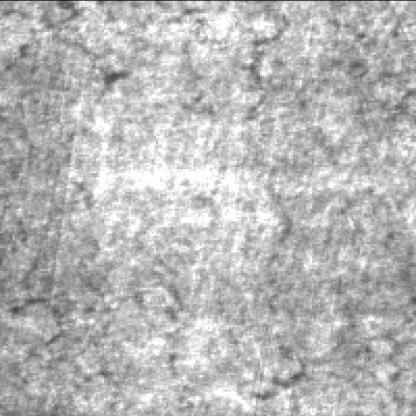crazing: (133, 10, 310, 414), (4, 2, 129, 408)
